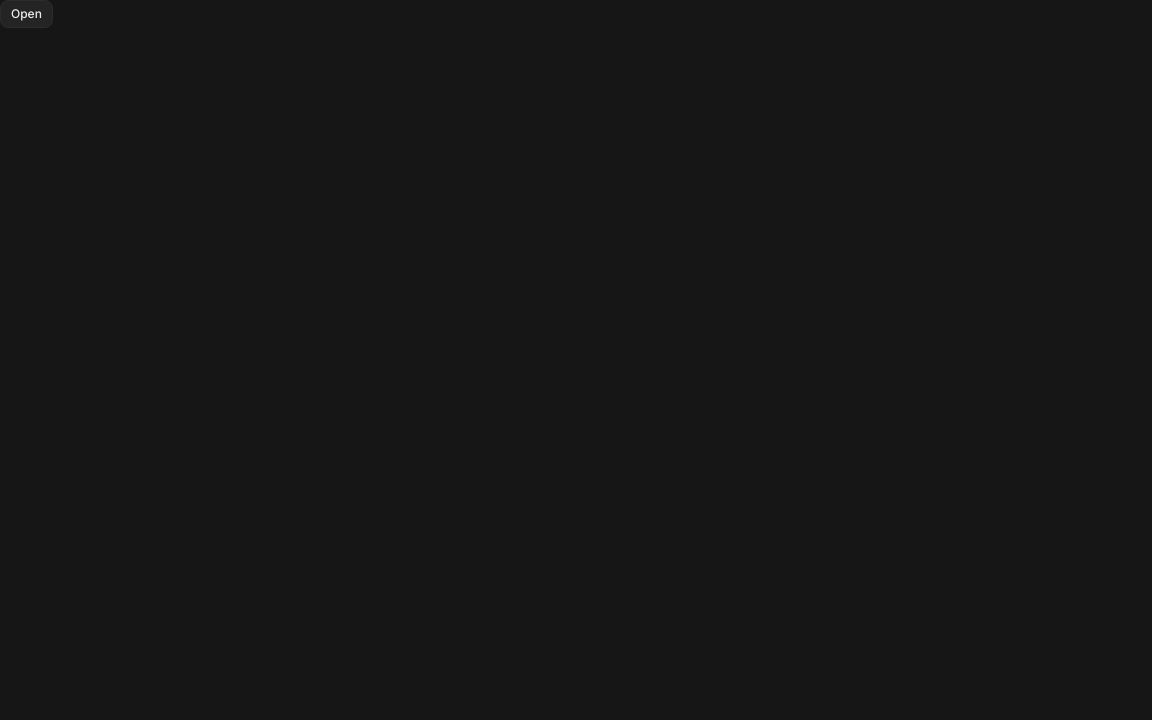
Test: PickerMenu › creating › stays open and says so when it could not create
Step 1. Click the button "Open" → (26, 14), box top-left (0, 0), bottom-right (53, 28)
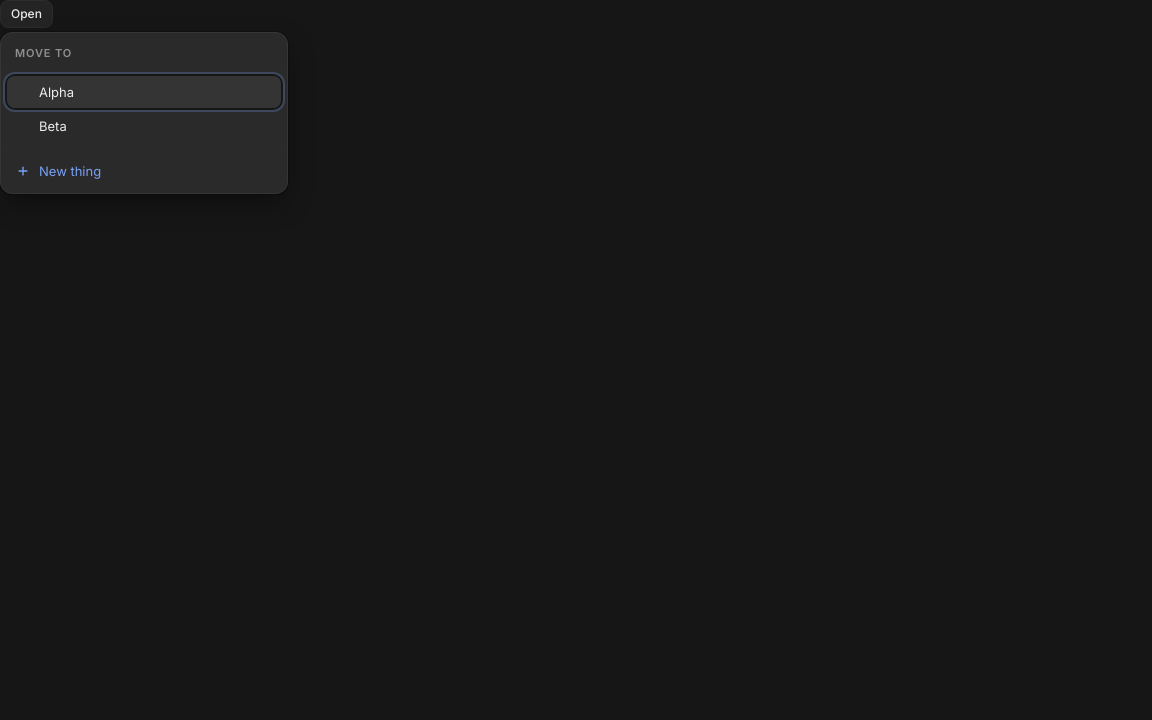
Step 2. Click the button "New thing" → (70, 171), box top-left (7, 155), bottom-right (281, 187)
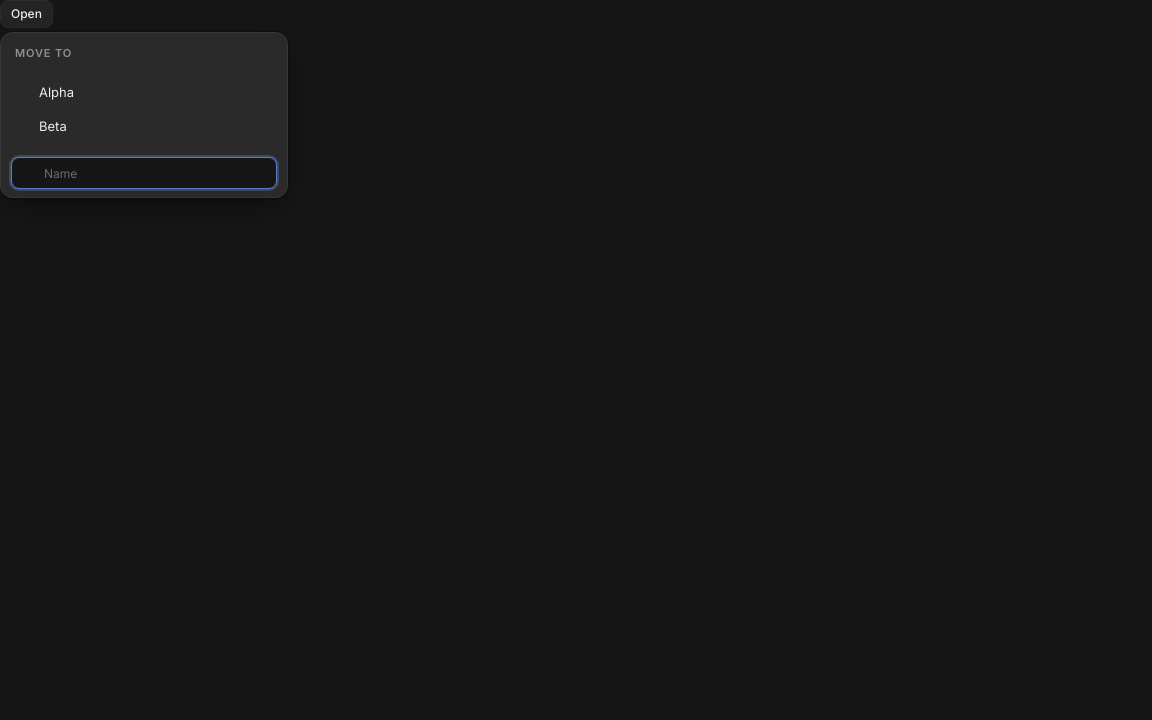
Step 3. Type "Gamma" into the field named "New thing" → (144, 173), box top-left (11, 157), bottom-right (277, 189)
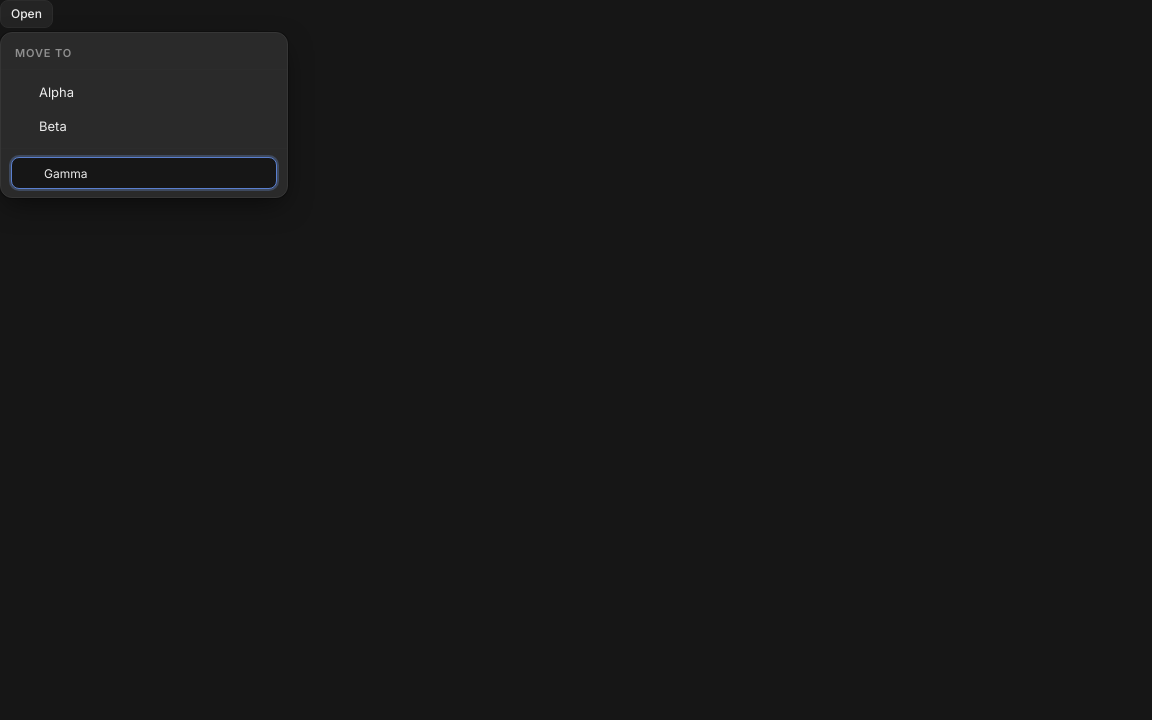
Step 4. Submit the form named "New thing", box top-left (7, 155), bottom-right (281, 191)
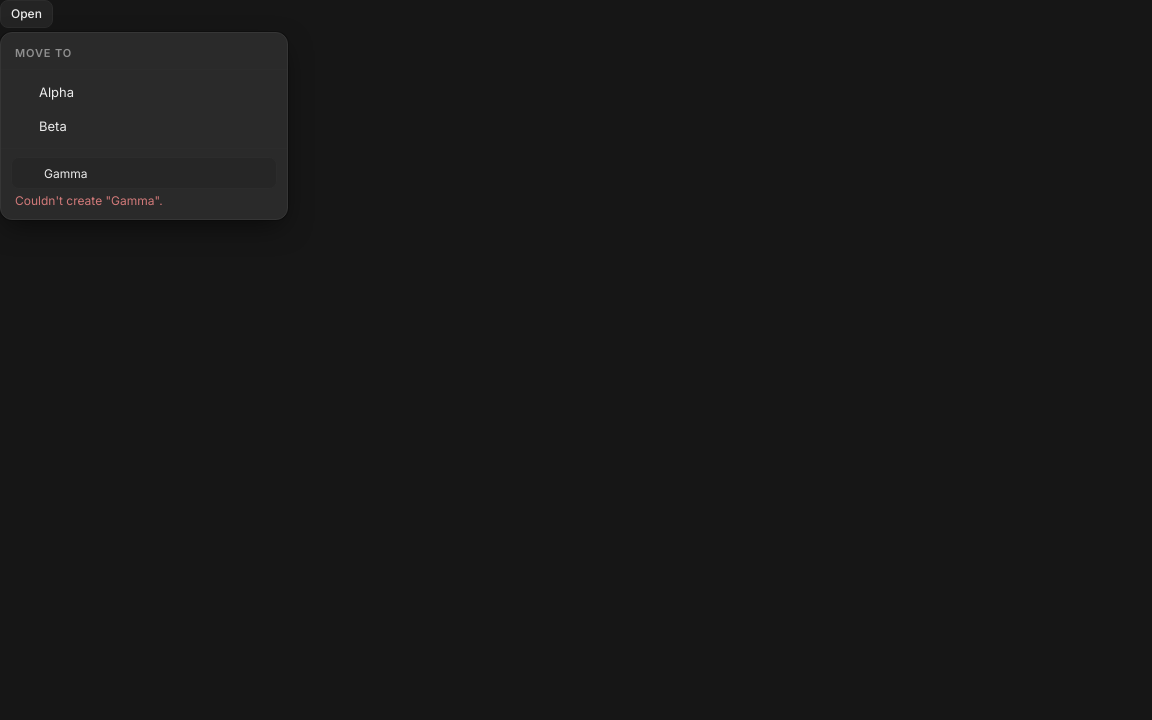
Expected: the message shows "Gamma", top-left (15, 193), bottom-right (163, 208)
